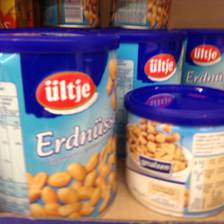nuts: (1, 30, 120, 220), (122, 84, 224, 217)
